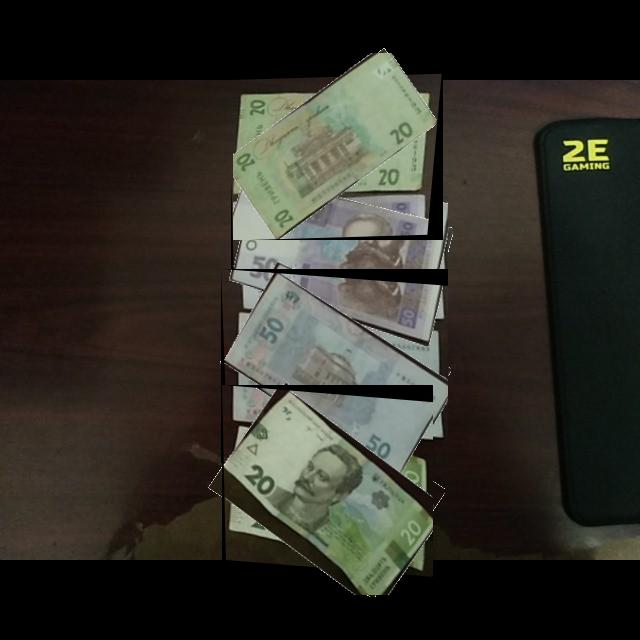20uah: (224, 390, 434, 596), (233, 53, 439, 240)
50uah: (224, 273, 449, 464), (234, 178, 449, 313)
